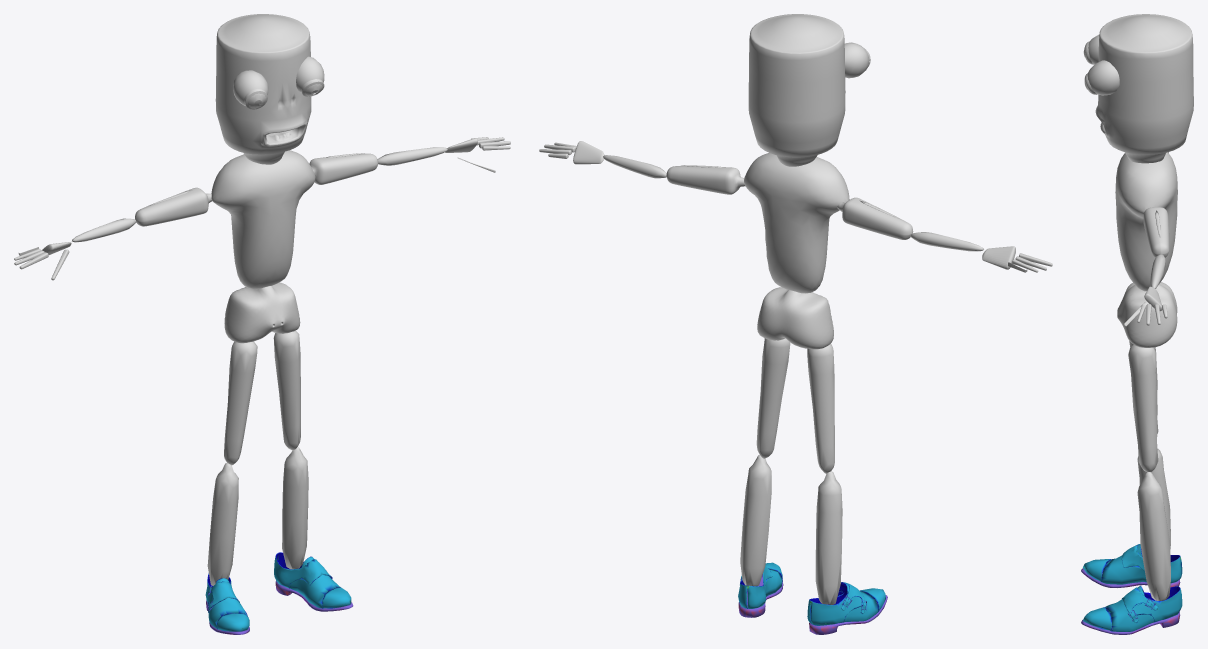
The model's file is ROBOTLOPOLYCOL12.glb.
The picture shows the model from 3 angles, left to right: view 1: azimuth 30°, elevation 25°; view 2: azimuth 150°, elevation 25°; view 3: azimuth 270°, elevation 25°; orthographic projection.
Visible parts, largest first — view 1: HEAD, UPPERBODY, HIPS, LOWERLEG.L, LOWERLEG.R, SHOE.L, UPPERLEG.R, UPPERLEG.L, SHOE.R, UPPERARM.R, UPPERARM.L, EYE2 (+3 smaller); view 2: HEAD, UPPERBODY, HIPS, LOWERLEG.R, LOWERLEG.L, UPPERLEG.R, UPPERLEG.L, SHOE.R, UPPERARM.L, UPPERARM.R, SHOE.L, LOWERARM.R (+1 smaller); view 3: HEAD, UPPERBODY, LOWERLEG.L, SHOE.L, UPPERLEG.L, HIPS, SHOE.R, UPPERARM.L, EYE1, LOWERLEG.R, LOWERARM.L, EYE2 (+1 smaller).
Boxes of the visible parts, x1,y1,x2,y2 form: HEAD: (215,14,311,164); UPPERBODY: (211,150,315,289); HIPS: (224,282,300,343); LOWERLEG.L: (282,447,308,569); LOWERLEG.R: (207,463,238,585); SHOE.L: (274,552,353,611); UPPERLEG.R: (224,341,257,465); UPPERLEG.L: (273,330,300,450); SHOE.R: (205,573,249,634); UPPERARM.R: (135,187,211,226); UPPERARM.L: (309,153,378,184); EYE2: (233,70,268,109); HEAD: (748,14,845,166); UPPERBODY: (744,153,849,293); HIPS: (757,287,833,349); LOWERLEG.R: (815,471,842,604); LOWERLEG.L: (740,454,771,586); UPPERLEG.R: (807,343,834,473); UPPERLEG.L: (756,338,790,458); SHOE.R: (807,582,887,634); UPPERARM.L: (666,165,745,194); UPPERARM.R: (837,197,913,239); SHOE.L: (738,562,783,617); LOWERARM.R: (910,232,983,251); HEAD: (1095,14,1193,163); UPPERBODY: (1115,152,1177,291); LOWERLEG.L: (1137,472,1170,600); SHOE.L: (1081,585,1182,634); UPPERLEG.L: (1128,344,1158,471); HIPS: (1117,282,1177,347); SHOE.R: (1081,544,1182,587); UPPERARM.L: (1143,207,1169,257); EYE1: (1084,60,1119,95); LOWERLEG.R: (1137,448,1170,548); LOWERARM.L: (1150,254,1165,288); EYE2: (1083,34,1099,64).
Size of the model in its own units: 1.81 by 2.05 by 0.3572.
